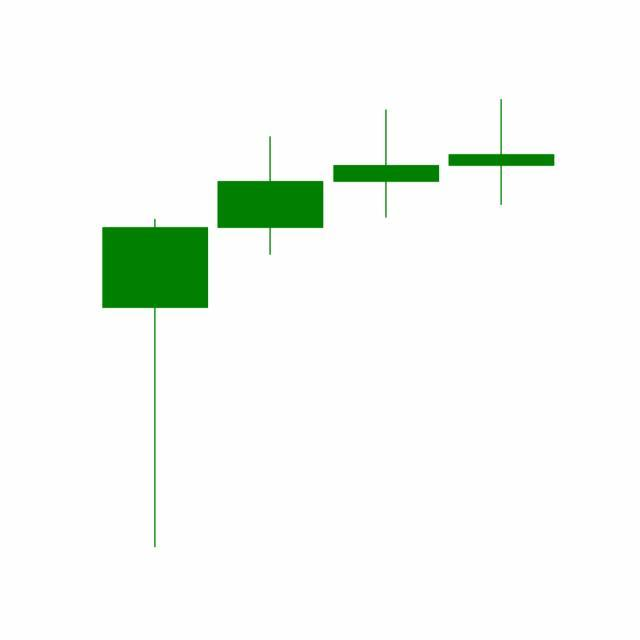Spinning Top: (329, 108, 445, 220)
